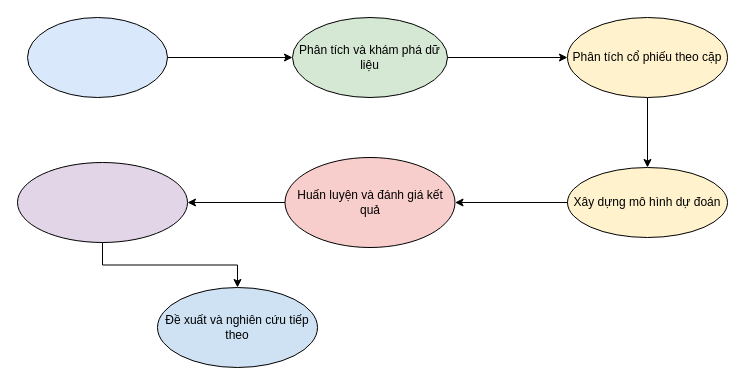
Image size: 745x385. Some labels were removed from this diagram. Each missing label, with the centre of its shape:
Dựng web ứng dụng mô hình học máy: [102,202]
Thu thập và tiền xử lý dữ liệu: [97,57]
